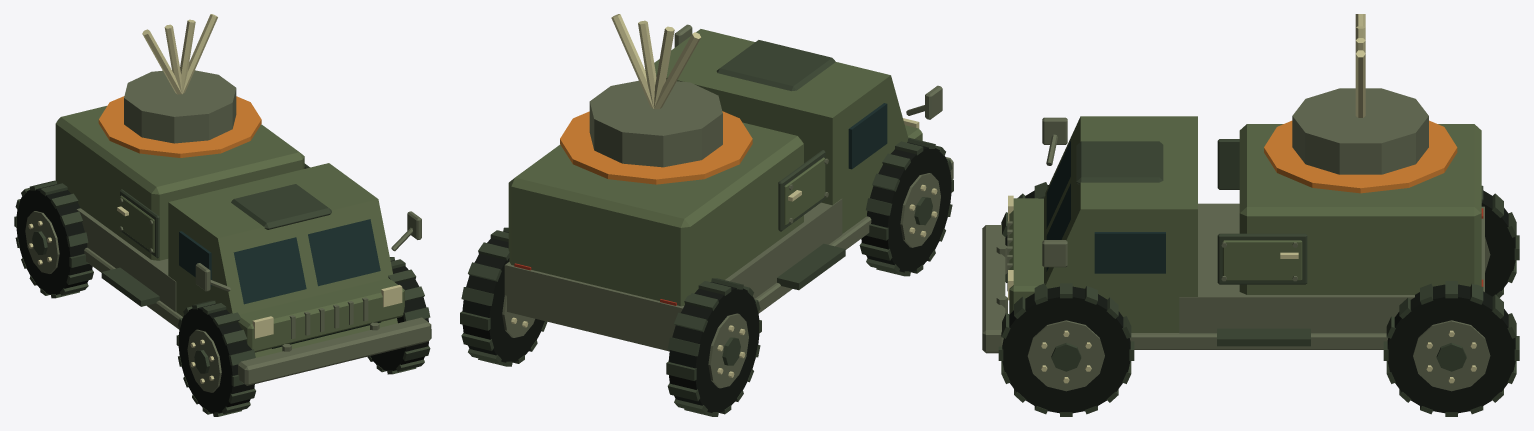
The model's file is jammerTruck.obj.
3 views of the same model, side by side, from view 1: azimuth 30°, elevation 25°; view 2: azimuth 150°, elevation 25°; view 3: azimuth 270°, elevation 25° (orthographic). The views are drawn at different scales.
Parts seen in each view (by area): view 1: Body.005, Wheel_02, Wheel_00.001, JammerHead, JammerScan, Wheel_01.001; view 2: Body.005, Wheel_02, Wheel_00.001, JammerHead, Wheel_03, JammerScan; view 3: Body.005, Wheel_03, Wheel_01.001, JammerHead, JammerScan, Wheel_02.
Part boxes in pixels (x1,y1,x2,y2): Body.005: (55,14,431,385); Wheel_02: (14,180,93,298); Wheel_00.001: (176,300,255,416); JammerHead: (124,70,236,143); JammerScan: (98,96,261,157); Wheel_01.001: (367,257,431,374); Body.005: (504,14,953,351); Wheel_02: (666,278,761,416); Wheel_00.001: (859,137,953,276); JammerHead: (589,80,722,167); Wheel_03: (460,227,547,366); JammerScan: (560,111,752,184); Body.005: (982,14,1484,353); Wheel_03: (1383,281,1519,416); Wheel_01.001: (998,283,1134,416); JammerHead: (1292,88,1428,174); JammerScan: (1264,120,1457,193); Wheel_02: (1481,185,1519,297).
Size of the model in its own units: 3.6 by 4.37 by 6.5.
Materials: 1 (1 with a texture image).
